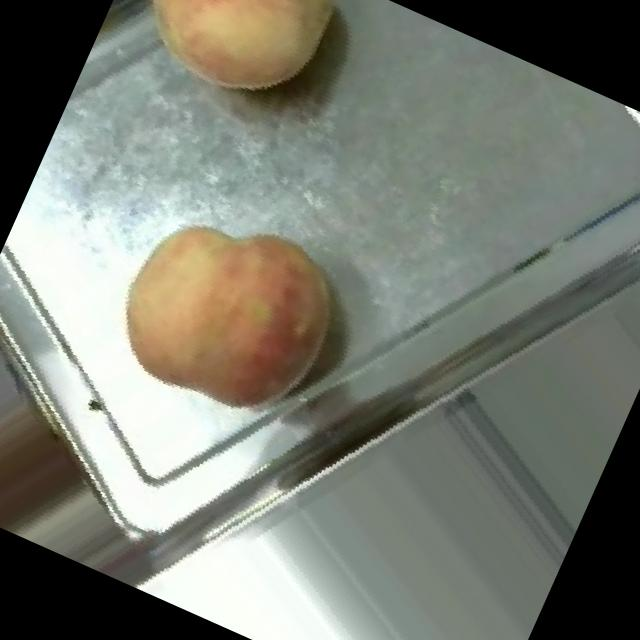Fruit: (62, 154, 392, 482), (85, 0, 373, 156)
